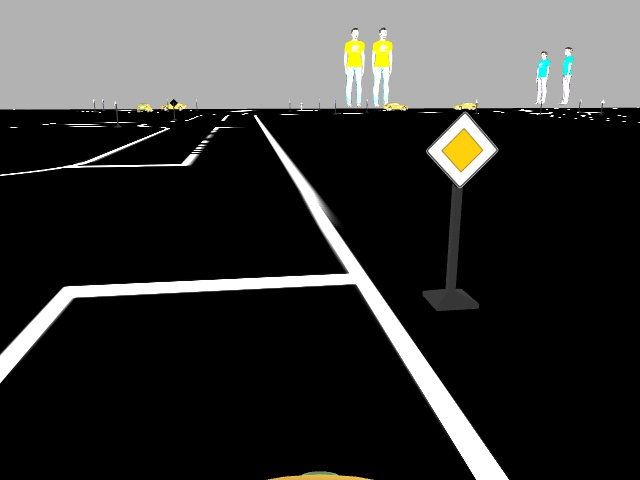Priority: (425, 110, 496, 184)
